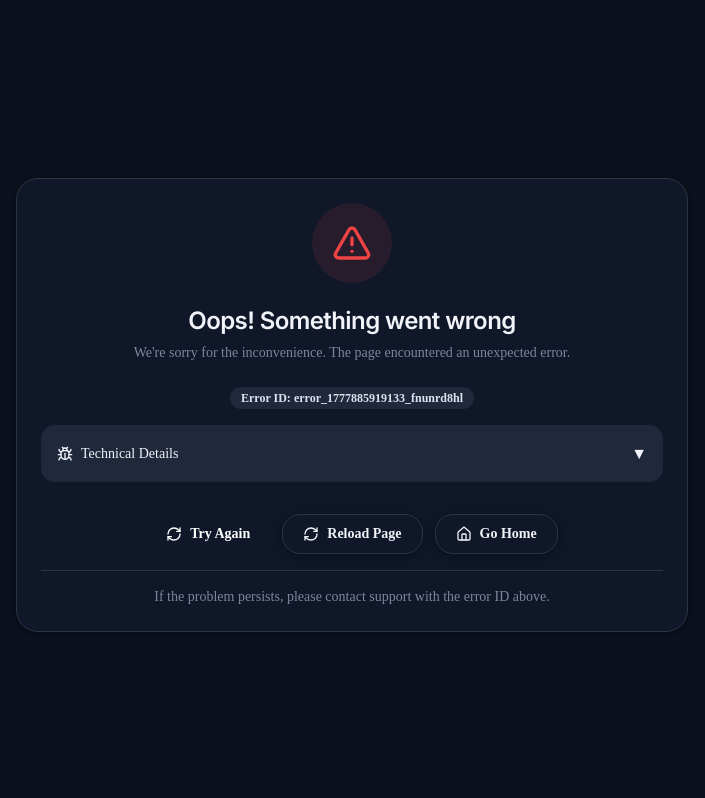
ErrorBoundary › Basic ErrorBoundary › displays error details when expanded
Note: open the technical details section
Click the text "Technical Details".
click(130, 454)  # box [81,444,178,464]
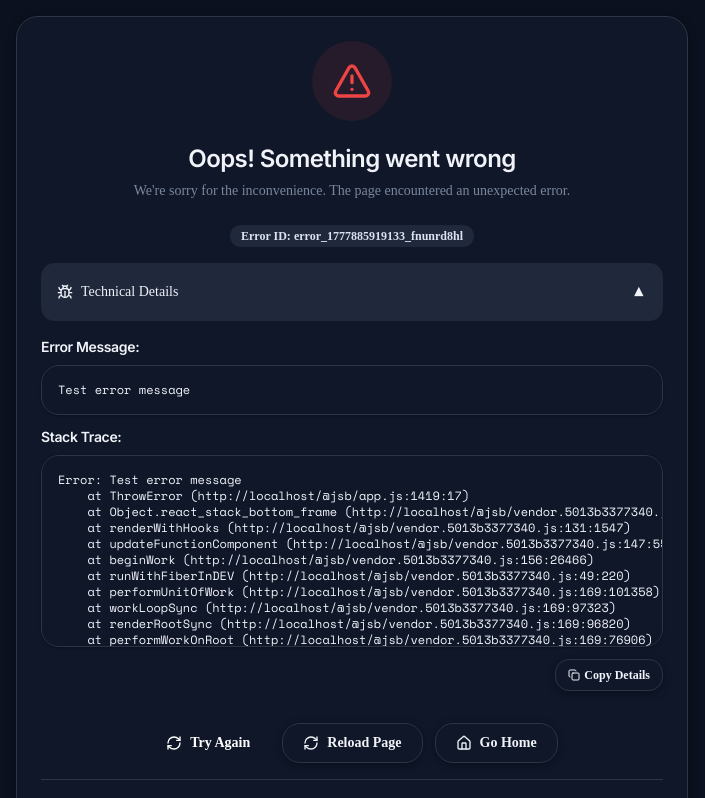
Check: the text "Test error message" is shown, box [41,365,663,415]
